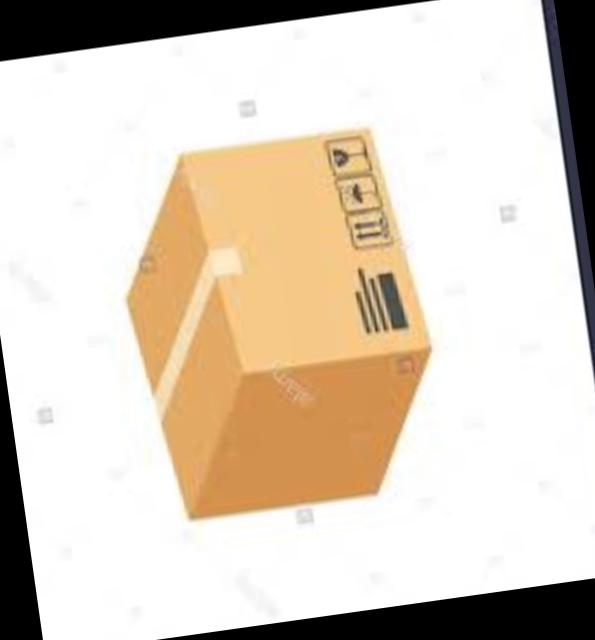cardboard paper: (122, 138, 422, 523)
